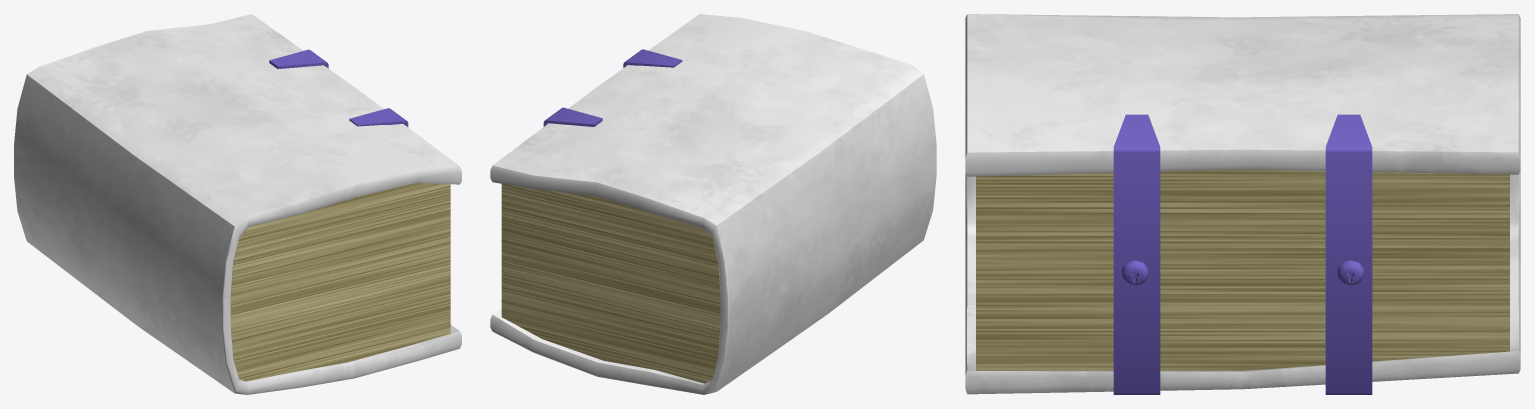
File: Book03.fbx
3 views of the same model, side by side, from view 1: azimuth 30°, elevation 25°; view 2: azimuth 150°, elevation 25°; view 3: azimuth 270°, elevation 25° (orthographic). The views are drawn at different scales.
Visible parts, largest first — view 1: Book03; view 2: Book03; view 3: Book03.
Boxes of the visible parts, <box> form: Book03: <box>14,14,461,394</box>; Book03: <box>490,14,936,394</box>; Book03: <box>965,14,1520,394</box>.
Size of the model in its own units: 0.2477 by 0.187 by 0.364.
3 materials, 2 textured.
